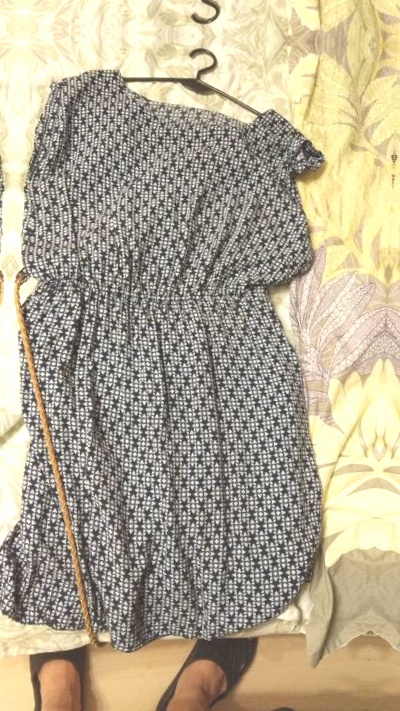Dress: (0, 56, 357, 667), (0, 39, 19, 650), (25, 0, 390, 14)
